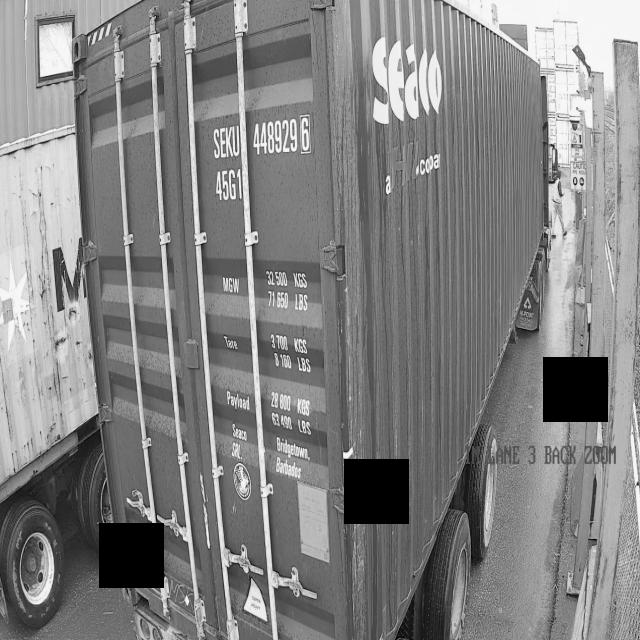container_company_logo: (362, 38, 471, 220)
container_number: (206, 114, 317, 239)
other_container_info: (215, 258, 324, 494)
truck_with_container: (73, 0, 559, 640)
